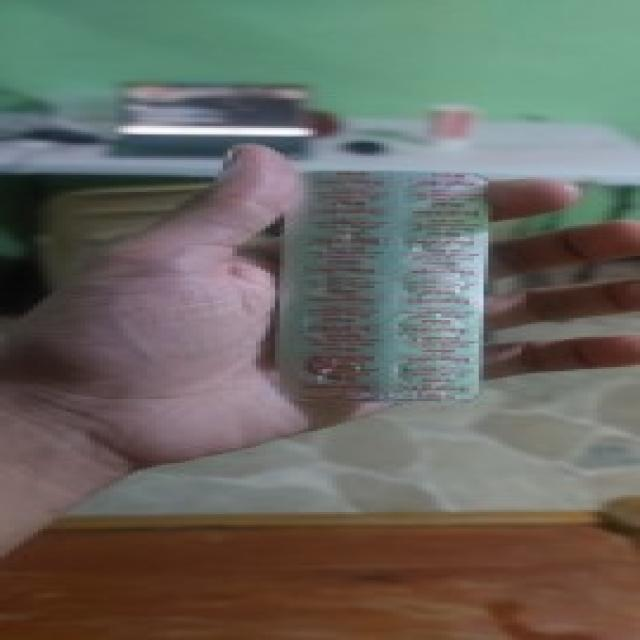Cacat: (274, 170, 488, 402)
